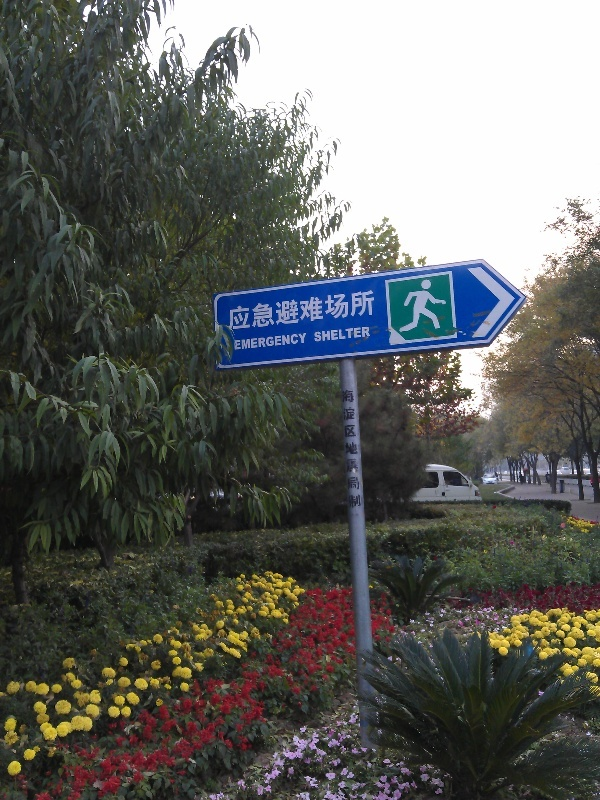text: (341, 390, 352, 511), (353, 390, 362, 511), (241, 290, 256, 331), (257, 290, 272, 331), (273, 290, 288, 331), (289, 290, 304, 331), (305, 290, 320, 331), (321, 290, 336, 331), (337, 290, 352, 331), (353, 290, 368, 331), (229, 290, 240, 331), (369, 290, 376, 331), (241, 332, 256, 351), (257, 332, 272, 351), (273, 332, 288, 351), (289, 332, 304, 351), (321, 326, 336, 343), (337, 326, 352, 343), (353, 326, 368, 343), (313, 326, 320, 343), (234, 332, 240, 351), (305, 332, 309, 351), (369, 326, 372, 343)
